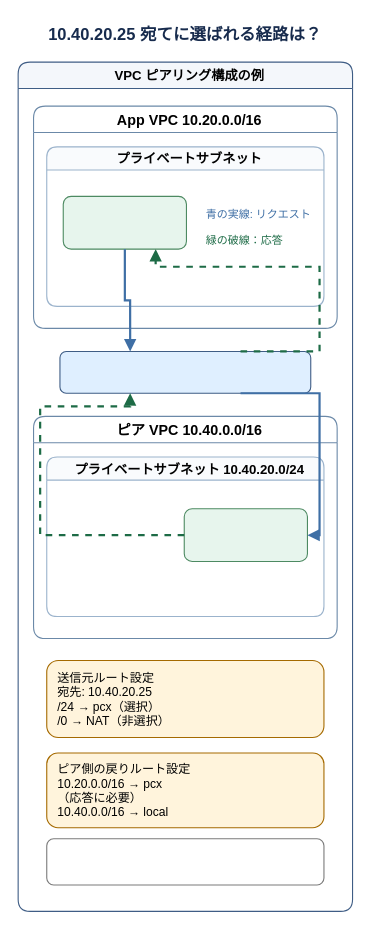
This 371x930 diagram has some shape labels left out. Each missing label, with the centre of its shape:
API ターゲット 10.40.20.25: pixel 245 535
EC2 送信元 10.20.1.10: pixel 124 222
VPC ピアリング接続 (pcx): pixel 185 371
設定ボックスはパケットのホップではない。 例であり、リージョン配置は示さない。 SG と NACL の権限は別である。: pixel 185 861
